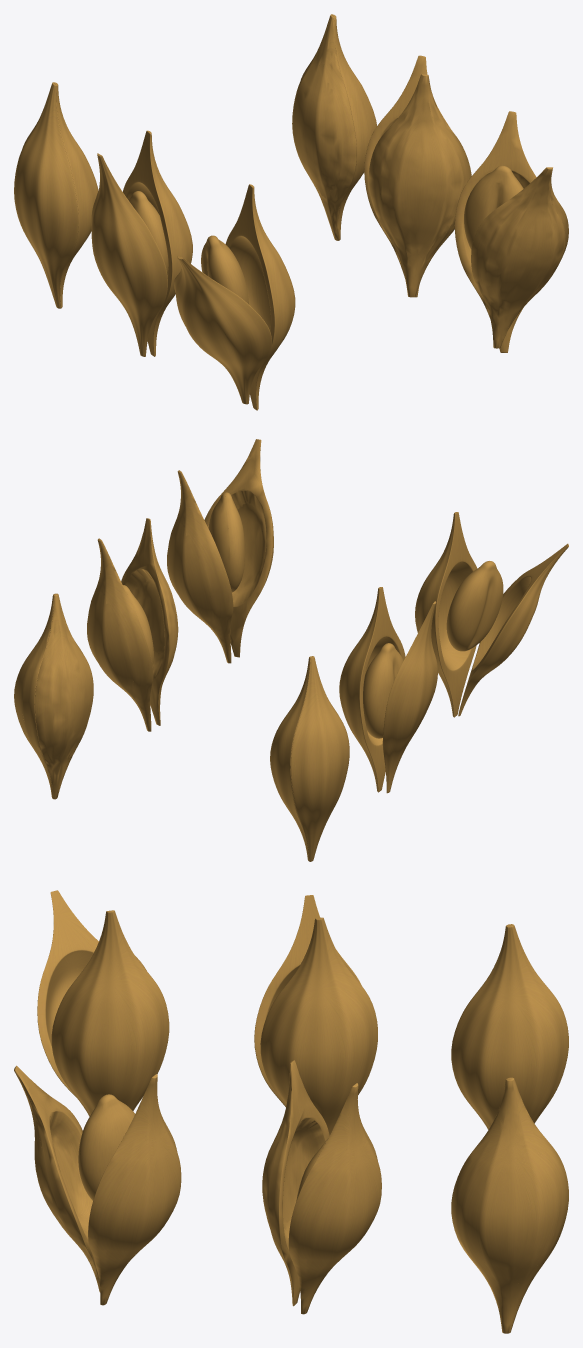
The model's file is EditedWheatSeeds.glb.
3 views of the same model, one above another, from view 1: azimuth 30°, elevation 25°; view 2: azimuth 150°, elevation 25°; view 3: azimuth 270°, elevation 25° (orthographic). The views are drawn at different scales.
Parts seen in each view (by area): view 1: Open_Seed_LowPoly, Open_Seed, Semi_Open_Seed_LowPoly, Semi_Open_Seed, Closed_Seed, Closed_Seed_LowPoly; view 2: Open_Seed_LowPoly, Open_Seed, Semi_Open_Seed, Semi_Open_Seed_LowPoly, Closed_Seed, Closed_Seed_LowPoly; view 3: Open_Seed_LowPoly, Open_Seed, Semi_Open_Seed_LowPoly, Closed_Seed_LowPoly, Semi_Open_Seed, Closed_Seed.
Boxes of the visible parts, x1=… form: Open_Seed_LowPoly: x1=454, y1=111, x2=568, y2=352; Open_Seed: x1=174, y1=184, x2=295, y2=410; Semi_Open_Seed_LowPoly: x1=364, y1=55, x2=471, y2=297; Semi_Open_Seed: x1=91, y1=130, x2=192, y2=356; Closed_Seed: x1=14, y1=82, x2=98, y2=308; Closed_Seed_LowPoly: x1=292, y1=14, x2=376, y2=240; Open_Seed_LowPoly: x1=167, y1=439, x2=273, y2=663; Open_Seed: x1=415, y1=512, x2=568, y2=717; Semi_Open_Seed: x1=339, y1=587, x2=437, y2=793; Semi_Open_Seed_LowPoly: x1=87, y1=518, x2=178, y2=731; Closed_Seed: x1=270, y1=656, x2=349, y2=861; Closed_Seed_LowPoly: x1=14, y1=593, x2=93, y2=799; Open_Seed_LowPoly: x1=14, y1=1065, x2=181, y2=1305; Open_Seed: x1=37, y1=890, x2=169, y2=1116; Semi_Open_Seed_LowPoly: x1=262, y1=1060, x2=381, y2=1314; Closed_Seed_LowPoly: x1=451, y1=1077, x2=568, y2=1333; Semi_Open_Seed: x1=254, y1=895, x2=377, y2=1135; Closed_Seed: x1=451, y1=924, x2=568, y2=1129.
Bounding box in the file's own units: 54.95 × 32.38 × 58.49.
1 material, 1 textured.
